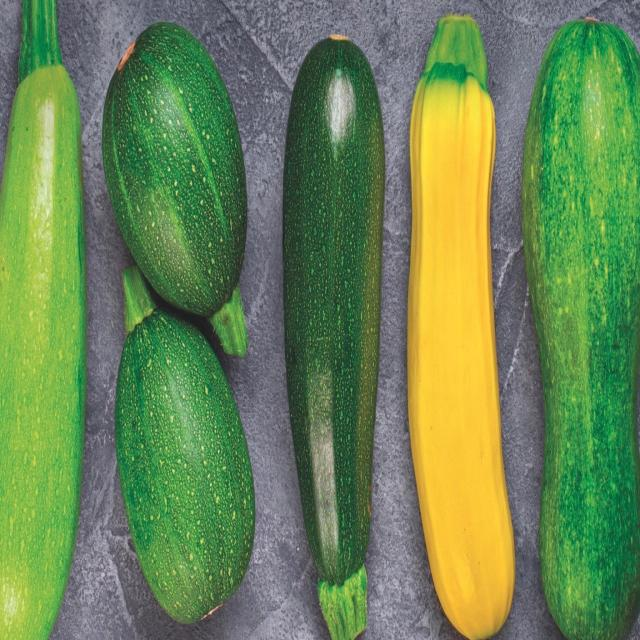Zucchini: (285, 36, 387, 640)
